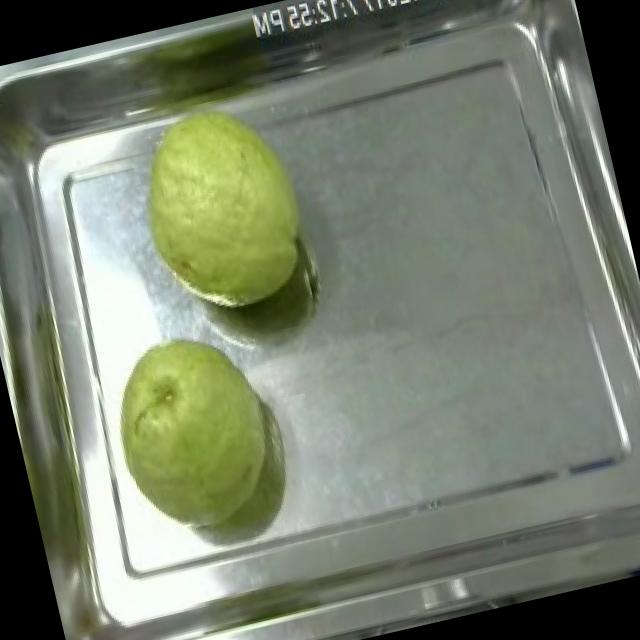Fruit: (111, 82, 332, 334), (81, 310, 301, 553)
